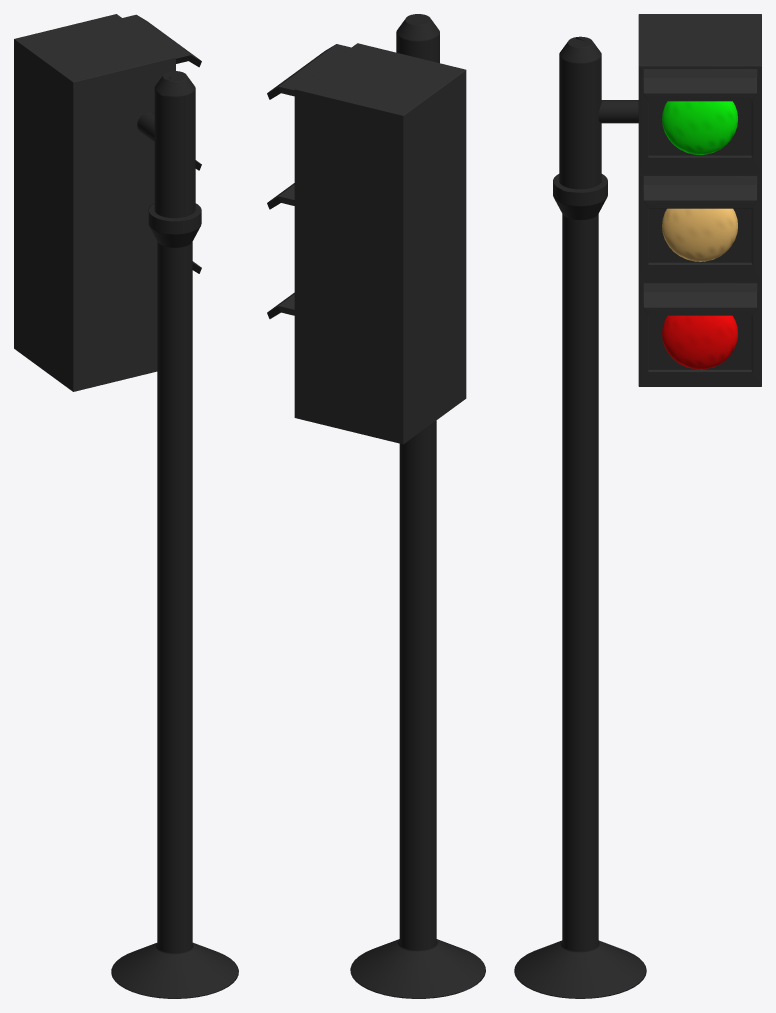
The model's file is TRAFFIC LIGHT.fbx.
The picture shows the model from 3 angles, left to right: view 1: azimuth 30°, elevation 25°; view 2: azimuth 150°, elevation 25°; view 3: azimuth 270°, elevation 25°; orthographic projection. The views are drawn at different scales.
Parts seen in each view (by area): view 1: box1, pole; view 2: box1, pole; view 3: pole, box1, light_bulbs.
Boxes of the visible parts, box(x1,y1,x2,y2) form: box1: box(14, 14, 201, 391); pole: box(111, 71, 238, 998); box1: box(267, 43, 466, 444); pole: box(350, 14, 485, 998); pole: box(514, 36, 646, 998); box1: box(638, 14, 761, 386); light_bulbs: box(662, 101, 737, 369).
Size of the model in its own units: 9.45 by 61.67 by 14.9.
